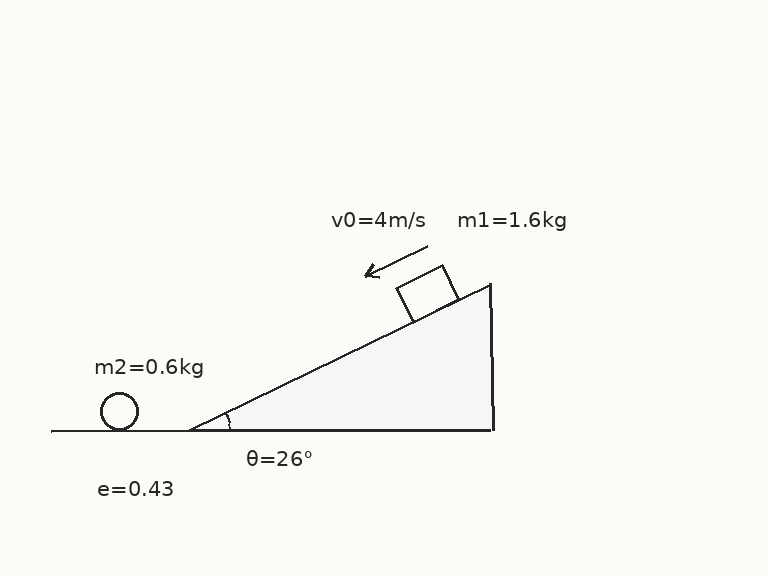ball: (98, 390, 140, 432)
block: (394, 263, 460, 323)
ramp: (188, 281, 493, 432)
